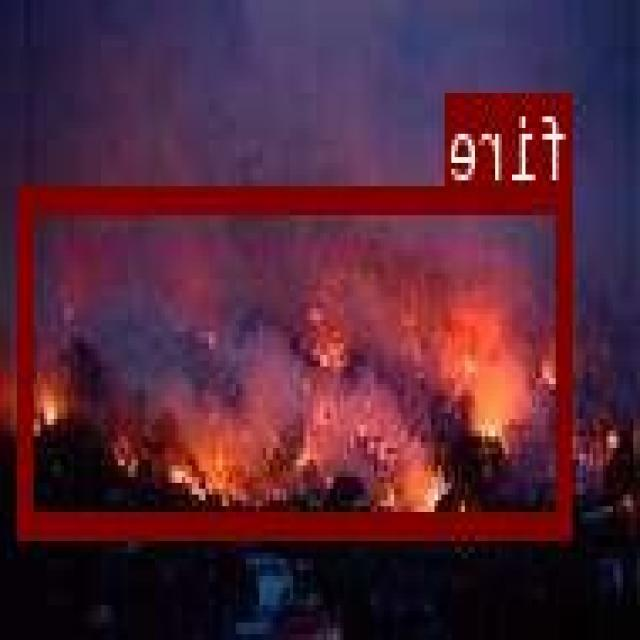fire: (23, 182, 575, 531)
